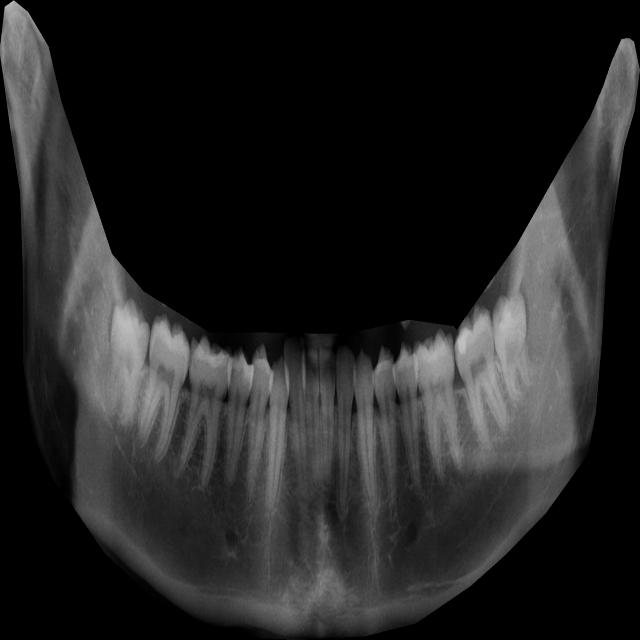mandibula: (0, 0, 640, 640)
